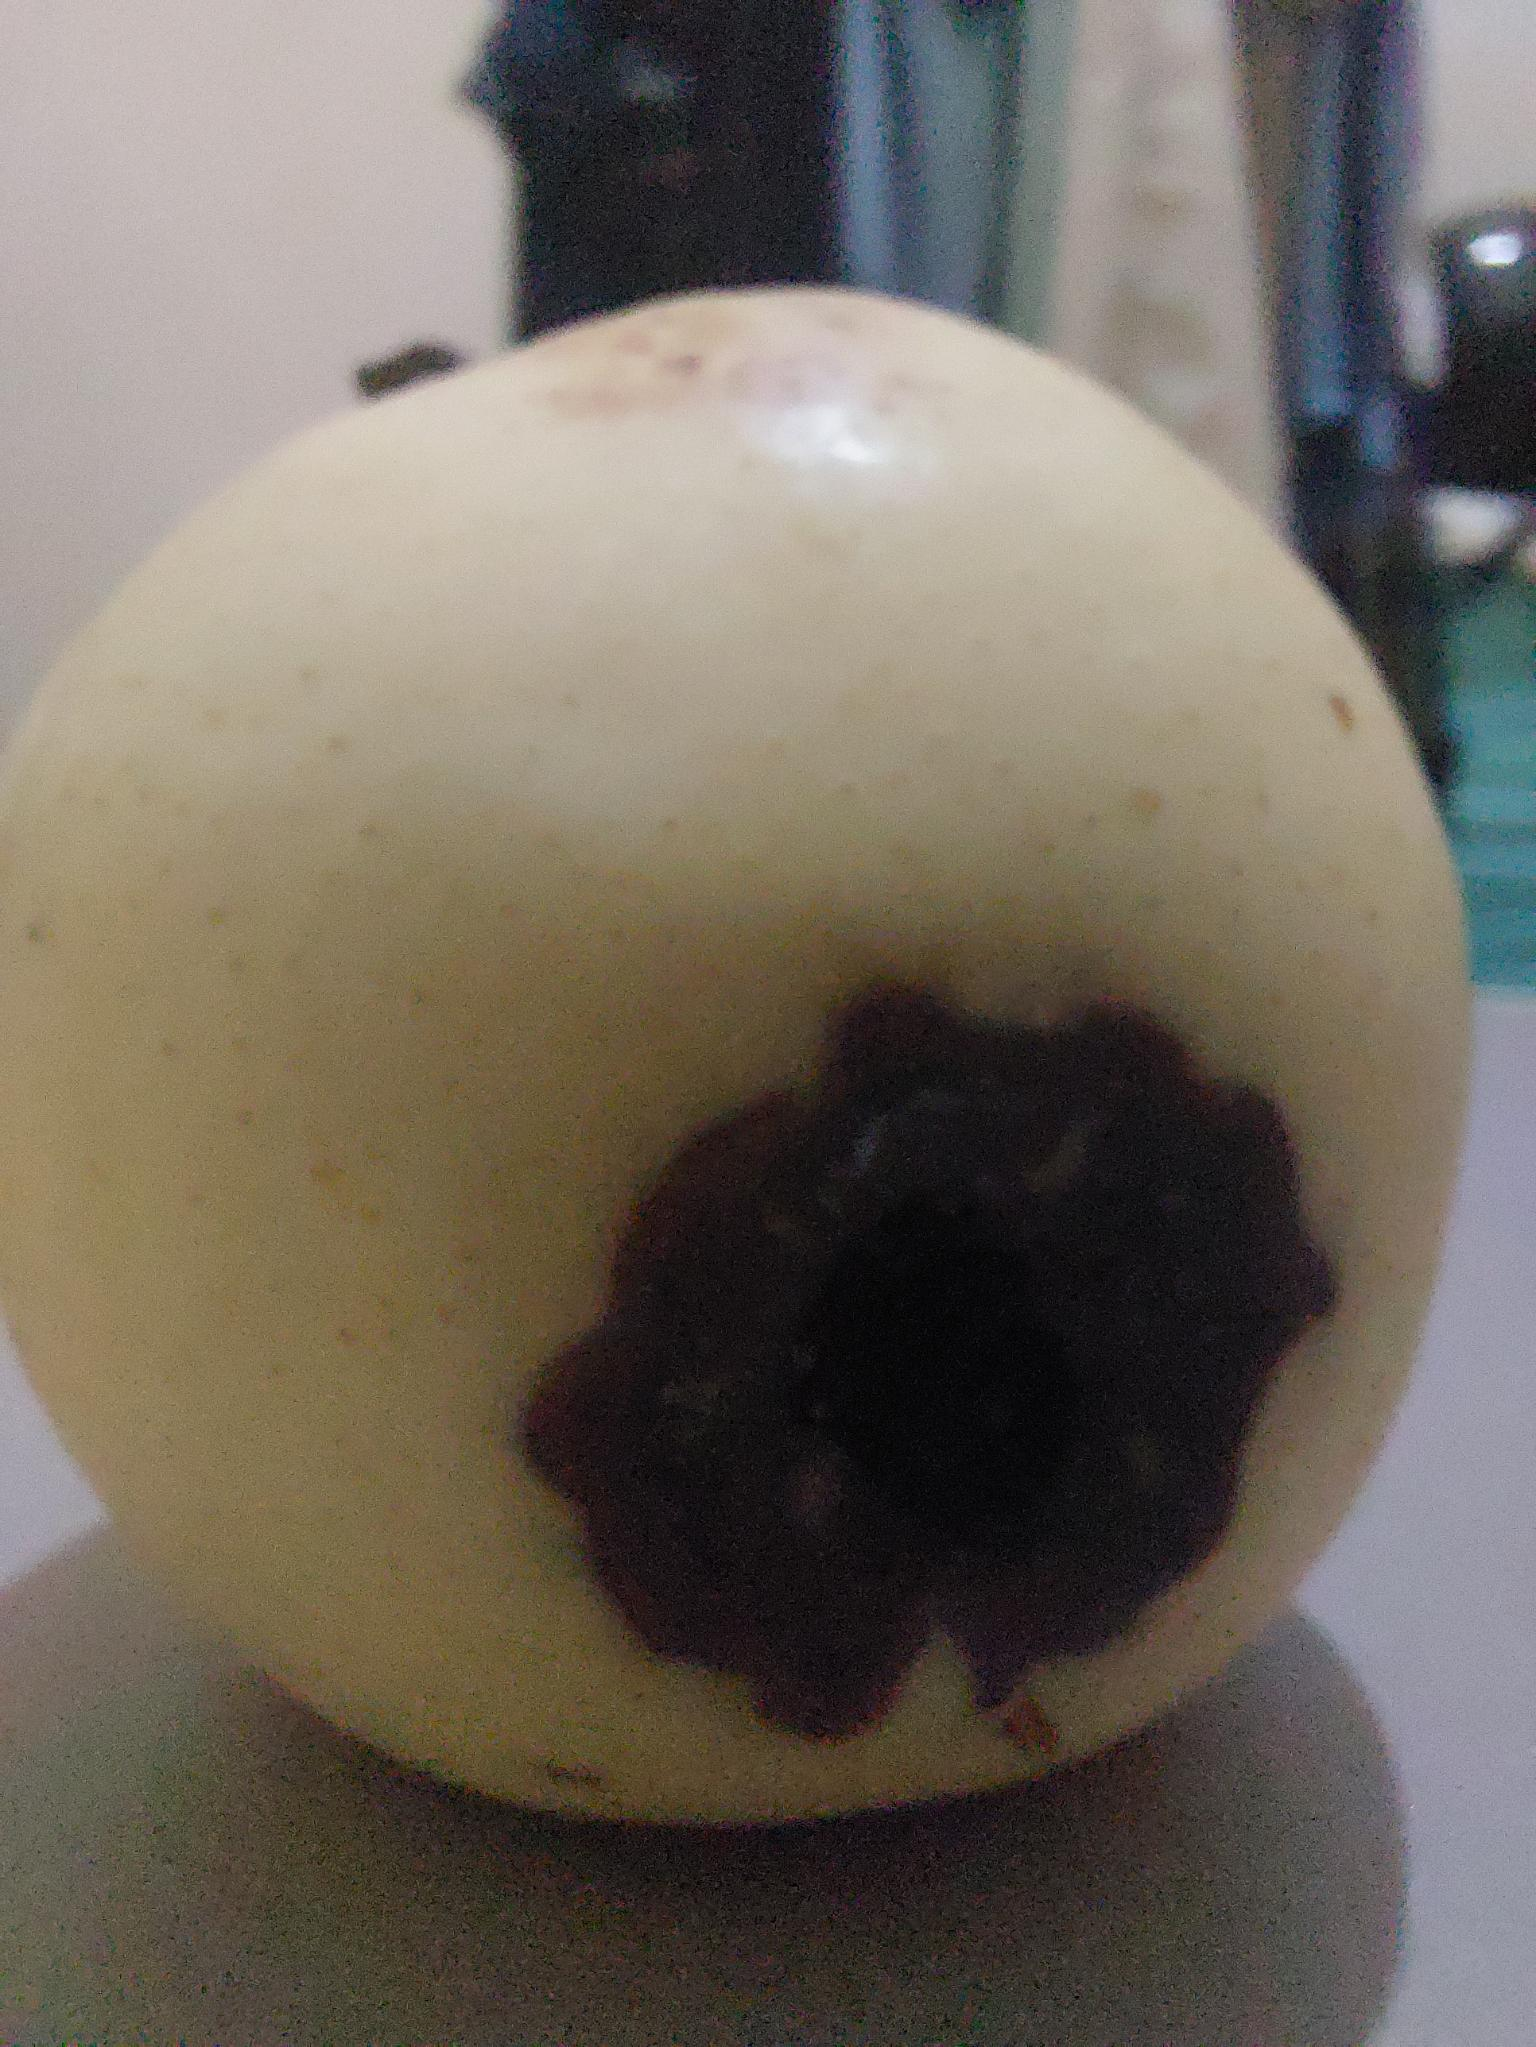Bad Pear: (0, 274, 1530, 1861)
